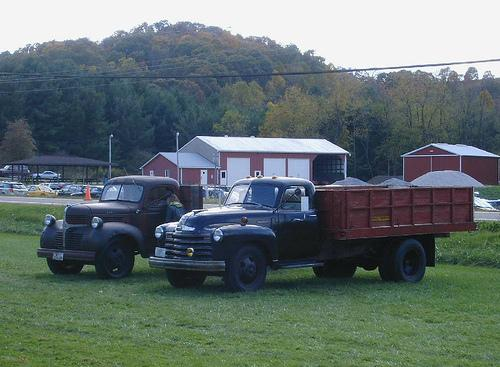truck: (148, 174, 479, 294), (38, 174, 248, 281)
